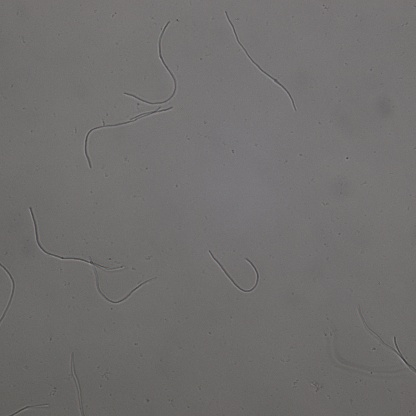Sensitive: (226, 13, 296, 109), (83, 107, 173, 168), (30, 208, 108, 269), (124, 21, 176, 105), (359, 306, 416, 370), (90, 256, 156, 305), (210, 250, 259, 293), (1, 264, 15, 324), (12, 404, 45, 414)
